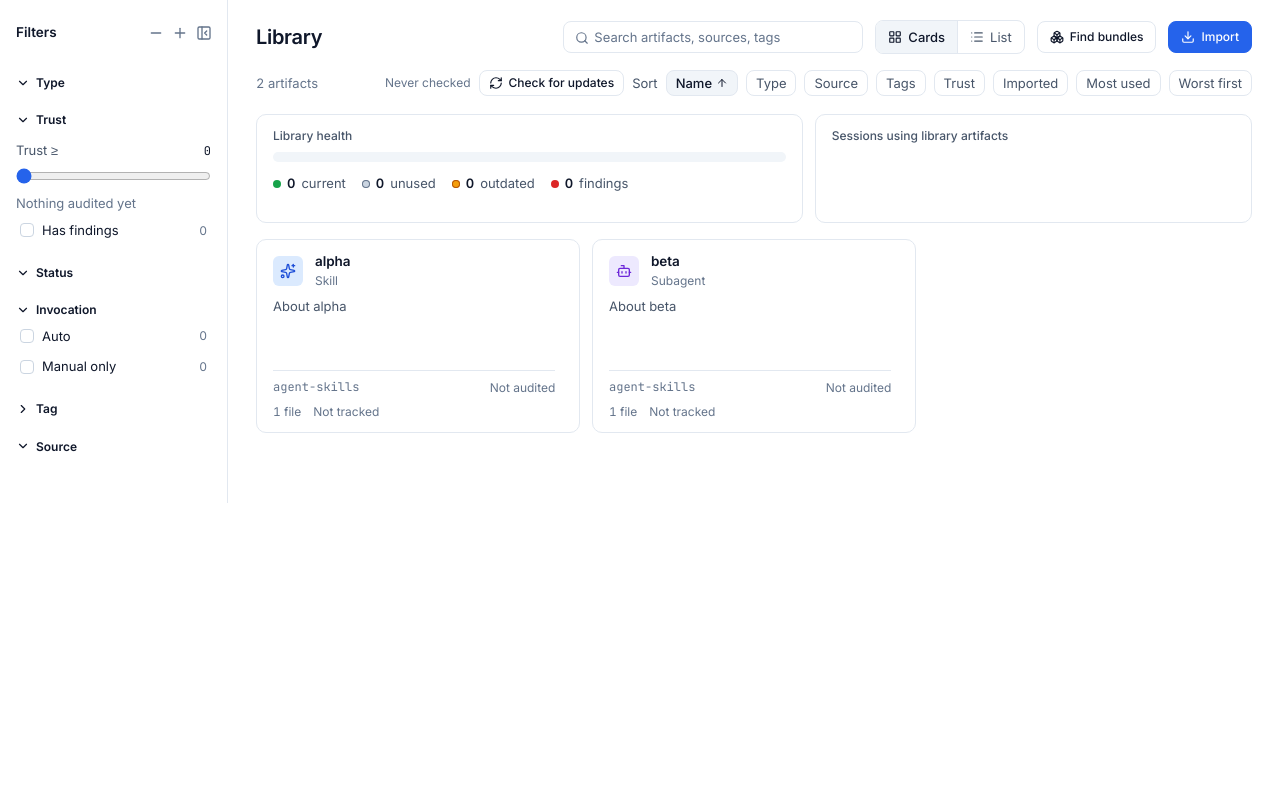
Test case: detail panel › opens from a card with its sections and puts the id in the URL
The width and height of the screenshot is (1280, 787).
Click the button "alpha" at (333, 261), box [256,239,580,433]
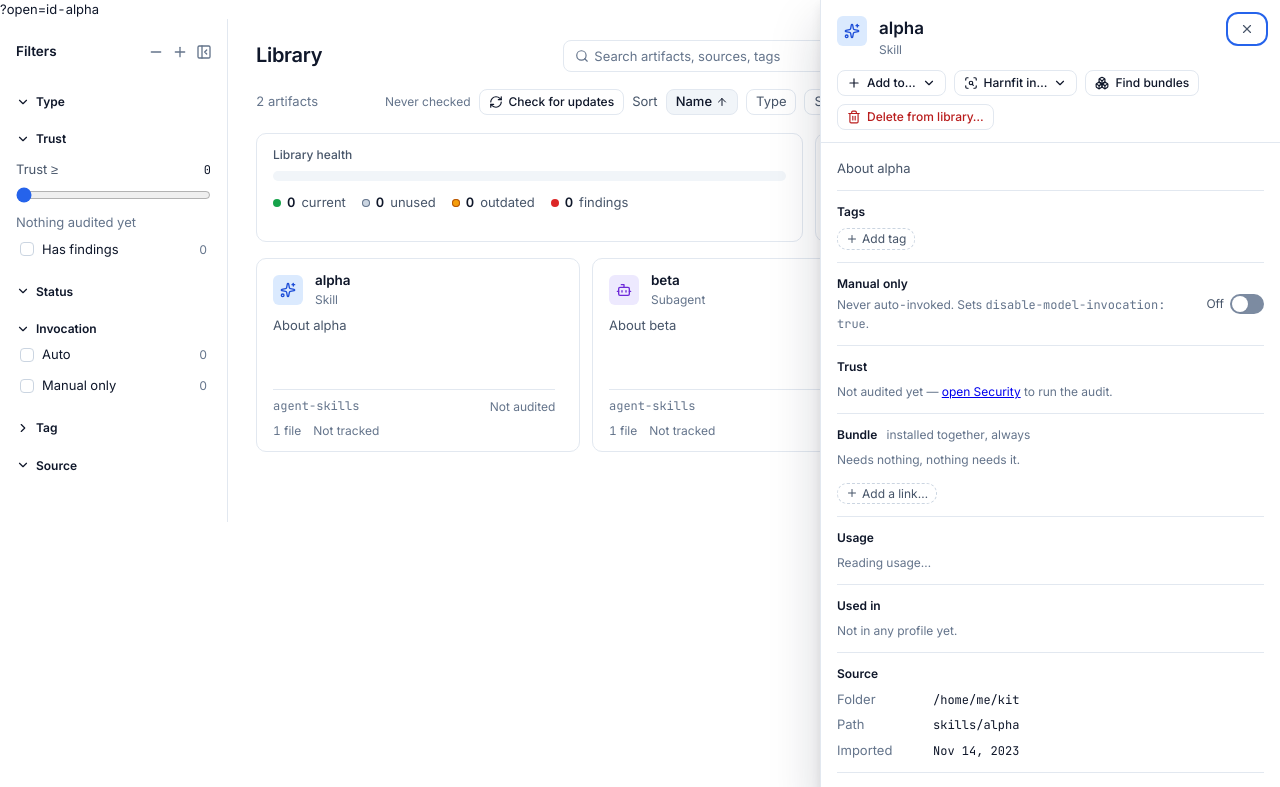
expect the text with test id "search" shows "open=id-alpha": met, box [0,1,99,17]
expect the 1st text "About alpha" is shown: met, box [837,160,911,176]
expect the text "/home/me/kit" is shown: met, box [933,692,1019,708]
